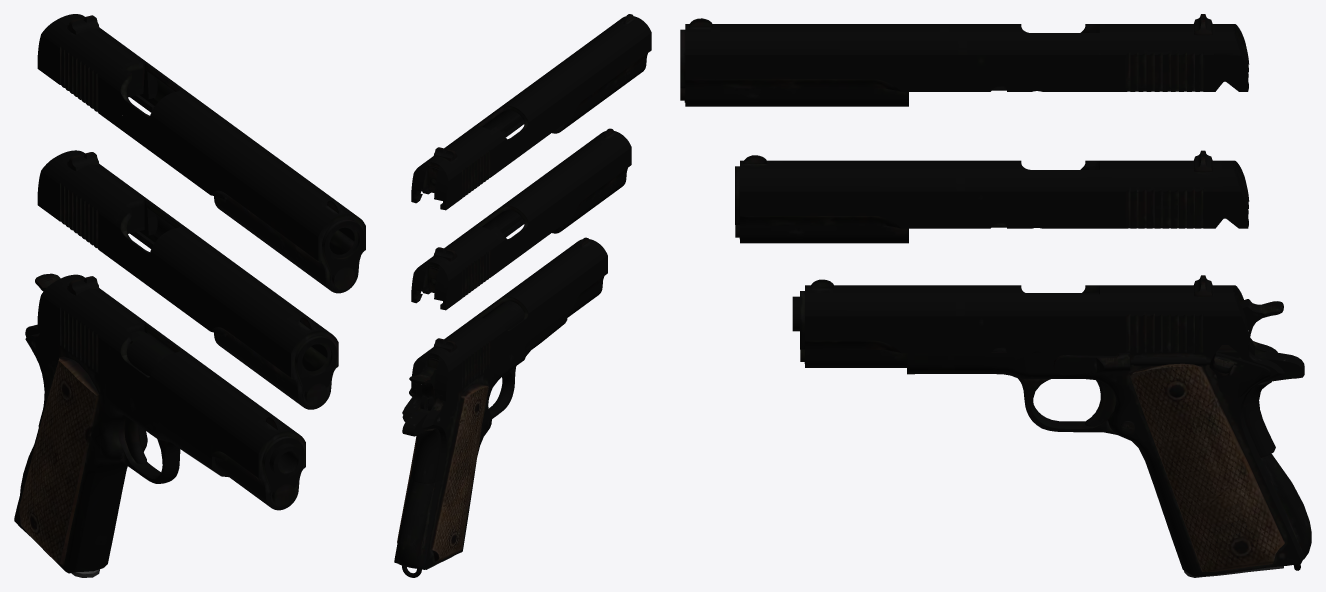
3 views of the same model, side by side, from view 1: azimuth 30°, elevation 25°; view 2: azimuth 150°, elevation 25°; view 3: azimuth 270°, elevation 25° (orthographic). The views are drawn at different scales.
Parts seen in each view (by area): view 1: Object_47, Object_42, Object_36, Object_45; view 2: Object_36, Object_47, Object_42, Object_45; view 3: Object_47, Object_36, Object_42, Object_45.
Part boxes in pixels (<box>): Object_47: <box>37,14,365,293</box>; Object_42: <box>37,150,338,409</box>; Object_36: <box>14,273,303,573</box>; Object_45: <box>37,274,305,510</box>; Object_36: <box>394,301,567,577</box>; Object_47: <box>411,14,651,210</box>; Object_42: <box>411,128,631,310</box>; Object_45: <box>411,237,607,401</box>; Object_47: <box>680,18,1249,106</box>; Object_36: <box>792,292,1311,576</box>; Object_42: <box>735,155,1249,243</box>; Object_45: <box>800,275,1248,367</box>.
Bounding box in the file's own units: 0.0264 × 0.1981 × 0.2048.
7 materials, 6 textured.
